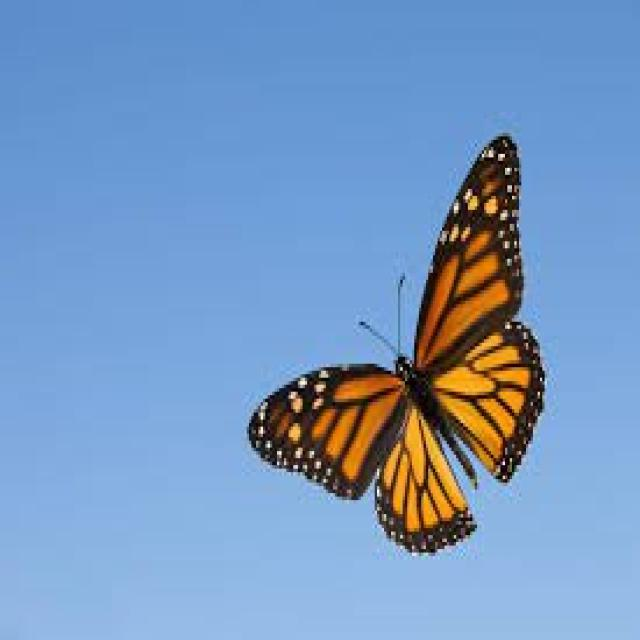butterfly: (266, 172, 560, 562)
